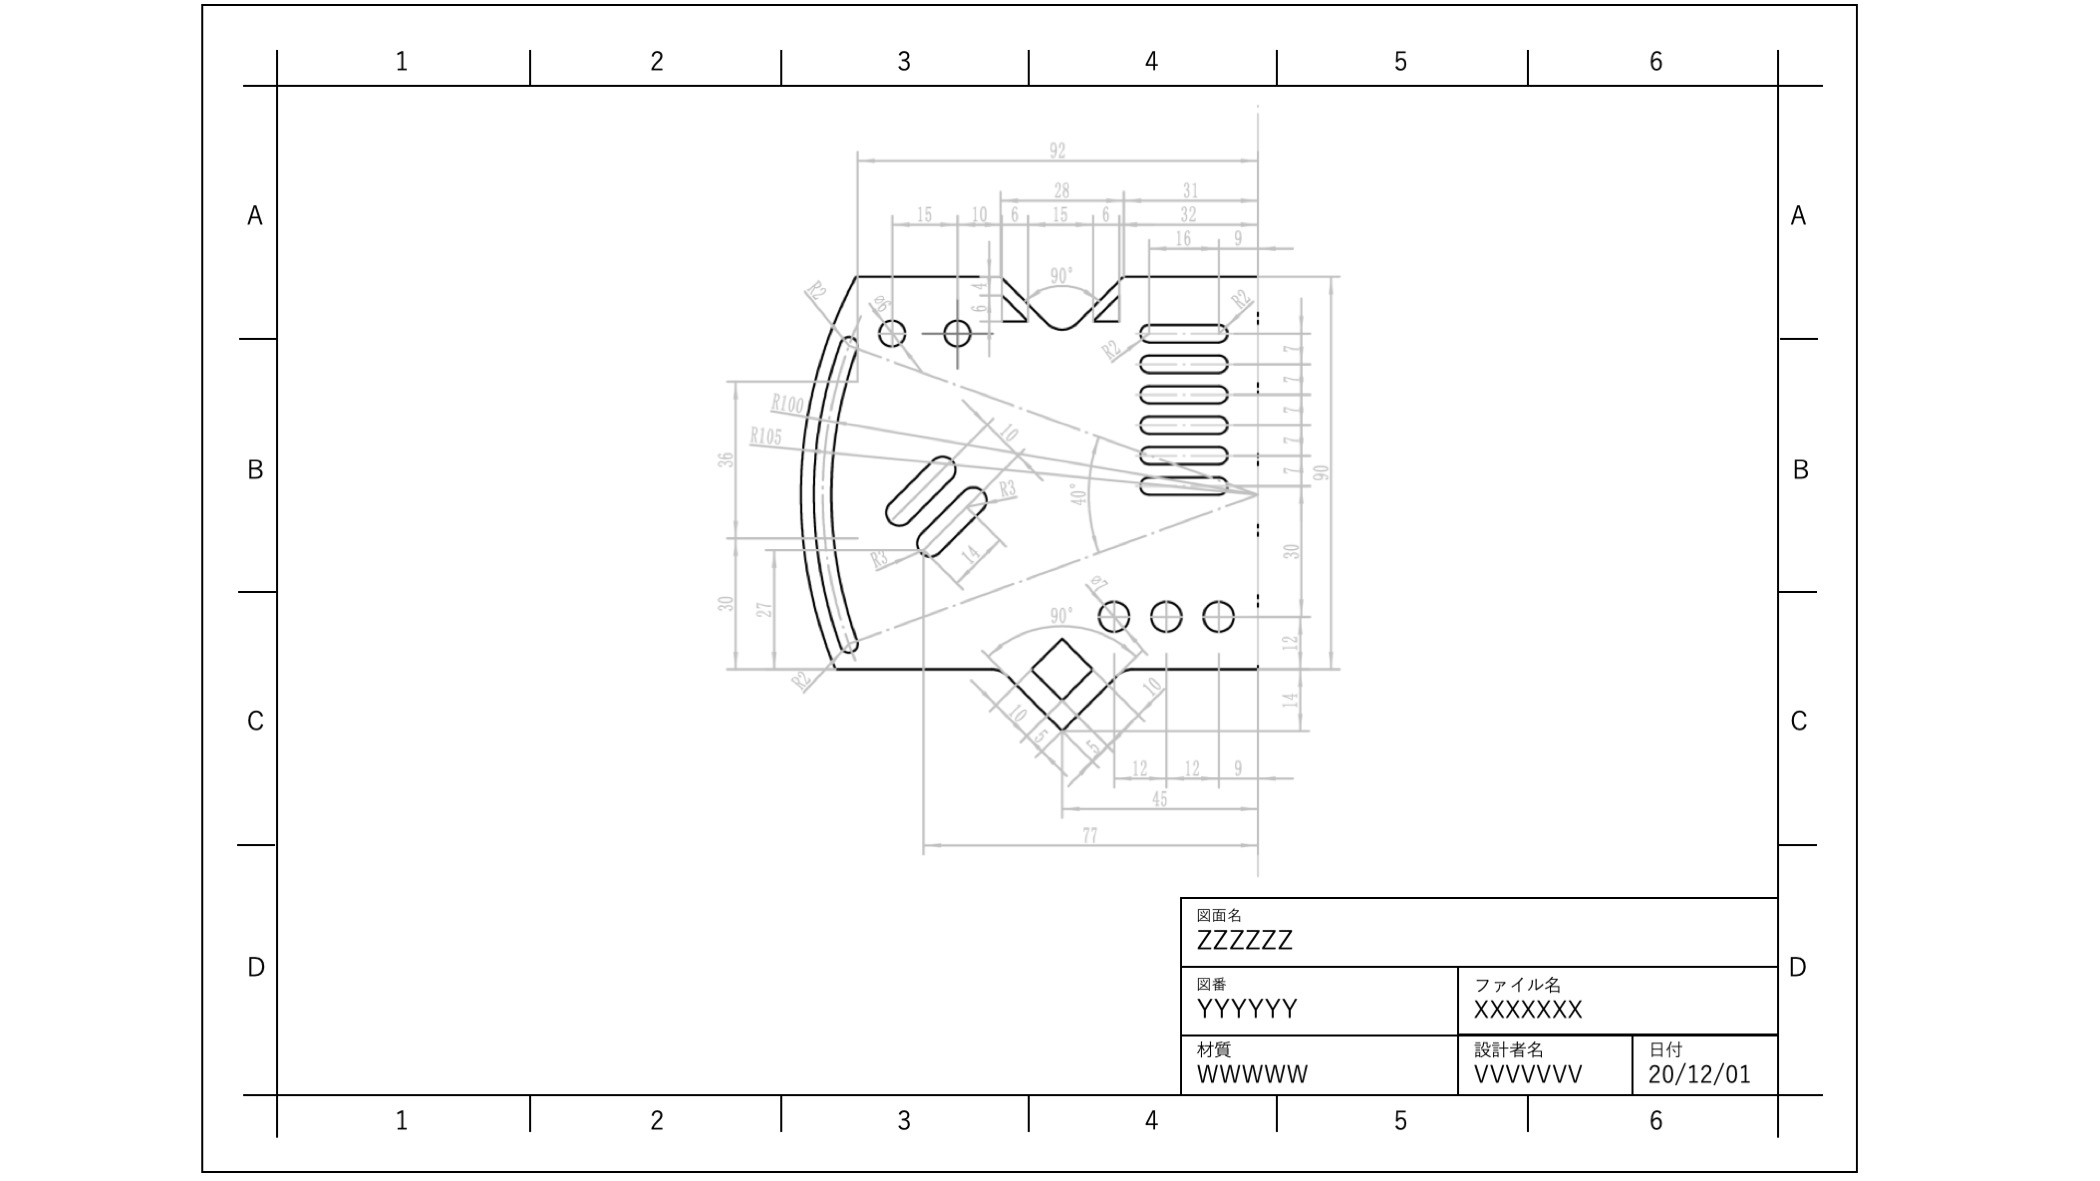circle: (874, 309, 910, 352), (1147, 596, 1186, 632), (1199, 597, 1237, 632), (1096, 596, 1132, 632), (940, 311, 976, 346)
rectangle: (1027, 632, 1090, 699)
round_rectangle: (793, 322, 861, 660), (914, 480, 997, 558), (883, 451, 953, 528), (1134, 314, 1237, 346), (1137, 379, 1236, 407), (1135, 349, 1239, 375), (1137, 443, 1233, 470), (1137, 474, 1233, 499), (1137, 412, 1233, 434)
